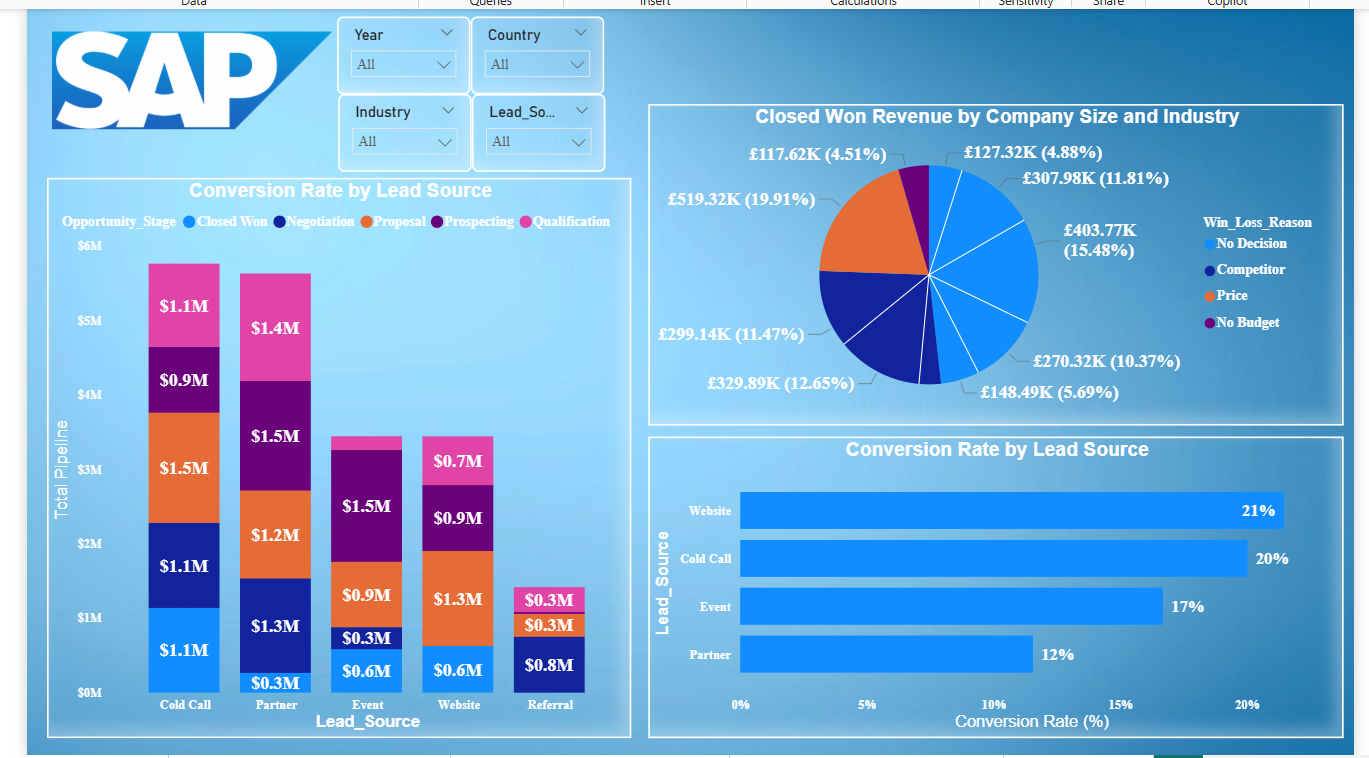

The page's visual inventory and layout, read from the dashboard file:
{"tool":"powerbi","page":{"name":"Win/Loss & Lead Source Analysis","canvas":[1280,720],"ordinal":3},"visuals":[{"type":"columnChart","title":"Conversion Rate by Lead Source","fields":{"Category":["Salesforce_Opportunities.Lead_Source"],"Series":["Salesforce_Opportunities.Opportunity_Stage"],"Y":["Salesforce_Opportunities.Total Pipeline"]},"box":[19.2,163.3,564,540.7],"z":0},{"type":"pieChart","title":"Closed Won Revenue by Company Size and Industry","fields":{"Y":["Salesforce_Opportunities.Total Closed Won Revenue"],"Category":["Salesforce_Opportunities.Win_Loss_Reason"],"Series":["Salesforce_Accounts.Industry"]},"box":[599.7,91.9,671,310.1],"z":1000},{"type":"clusteredBarChart","title":"Conversion Rate by Lead Source","fields":{"Y":["Salesforce_Opportunities.Conversion Rate (%)"],"Category":["Salesforce_Opportunities.Lead_Source"]},"box":[599.7,413,671,290.9],"z":2000},{"type":"image","box":[19.2,6.9,279.9,123.5],"z":3000},{"type":"slicer","fields":{"Values":["DimDate.Year"]},"box":[299.1,6.9,129,75.5],"z":4000},{"type":"slicer","fields":{"Values":["Salesforce_Accounts.Country"]},"box":[428.1,6.9,129,75.5],"z":5000},{"type":"slicer","fields":{"Values":["Salesforce_Accounts.Industry"]},"box":[300.5,82.3,129,75.5],"z":6000},{"type":"slicer","fields":{"Values":["Salesforce_Opportunities.Lead_Source"]},"box":[429.5,82.3,129,75.5],"z":7000}]}

Visuals, with their boxes on the page's 1280x720 design canvas (x1, y1, x2, y2). These are canvas units, not pixel positions in the 1369x758 screenshot, which may show the page scaled, cropped or inside an application window:
"Conversion Rate by Lead Source" columnChart: Rect(19, 163, 583, 704)
"Closed Won Revenue by Company Size and Industry" pieChart: Rect(600, 92, 1271, 402)
"Conversion Rate by Lead Source" clusteredBarChart: Rect(600, 413, 1271, 704)
image: Rect(19, 7, 299, 130)
slicer - DimDate.Year: Rect(299, 7, 428, 82)
slicer - Salesforce_Accounts.Country: Rect(428, 7, 557, 82)
slicer - Salesforce_Accounts.Industry: Rect(300, 82, 430, 158)
slicer - Salesforce_Opportunities.Lead_Source: Rect(430, 82, 558, 158)
